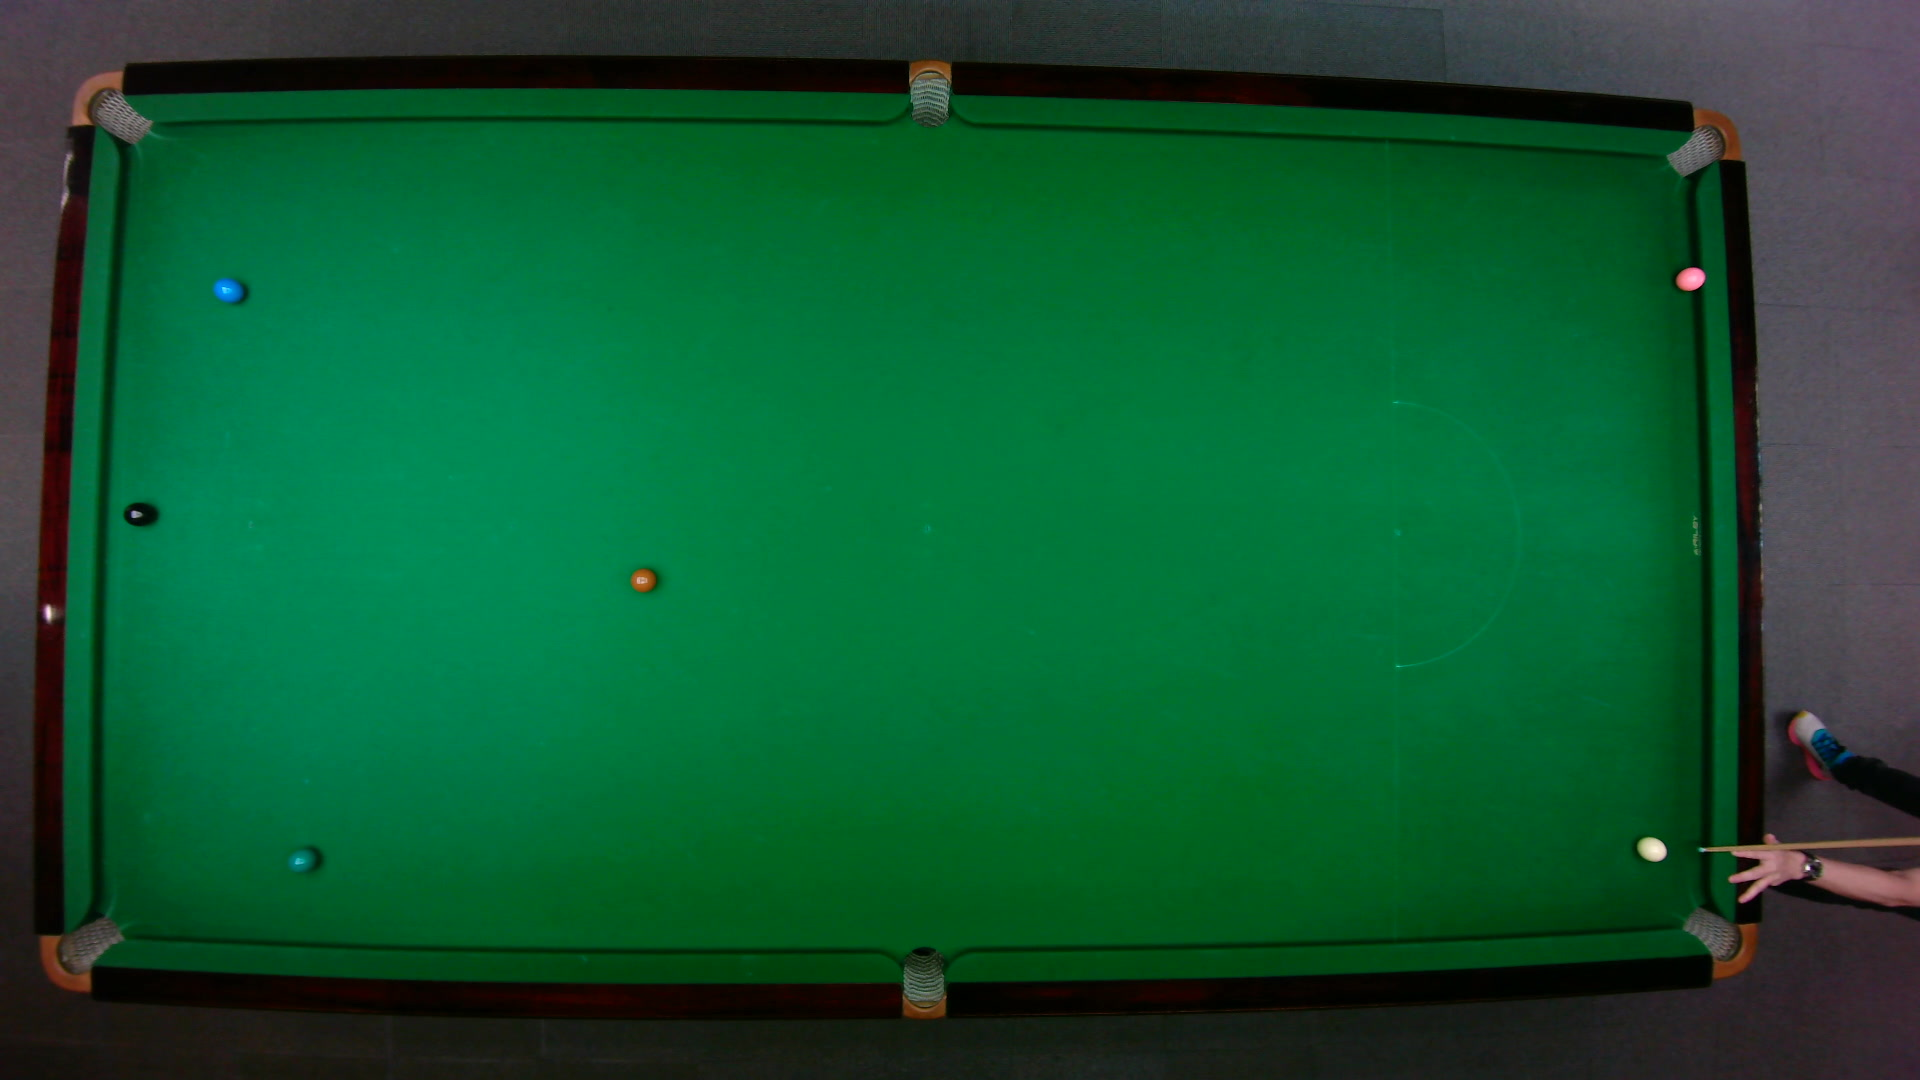bag: (38, 913, 125, 992), (69, 69, 152, 145), (1679, 905, 1756, 978), (1663, 107, 1741, 177), (901, 944, 944, 1021), (909, 57, 949, 128)
black: (121, 500, 154, 526)
blue: (211, 276, 244, 303)
brown: (629, 566, 655, 593)
cue: (1695, 833, 1920, 857)
green: (285, 845, 318, 873)
pink: (1673, 264, 1706, 291)
white: (1634, 833, 1667, 862)
zone: (1390, 400, 1520, 667)
